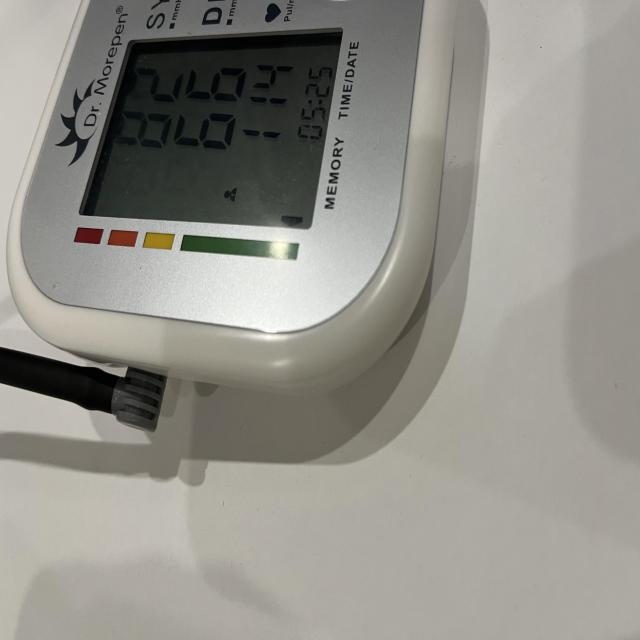bp: (4, 0, 476, 401)
